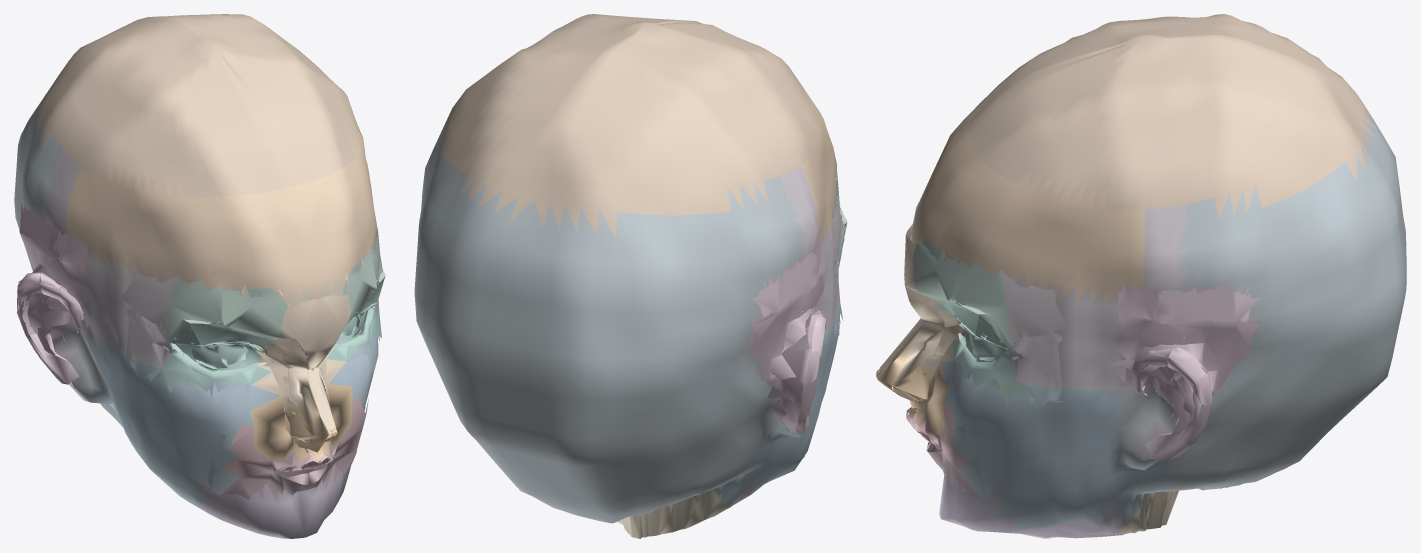
Rendered from grey-head-lod1-10000.parts.glb.
3 renders of one model, left to right at view 1: azimuth 30°, elevation 25°; view 2: azimuth 150°, elevation 25°; view 3: azimuth 270°, elevation 25°, orthographic. The views are drawn at different scales.
Visible parts, largest first — view 1: vault, forehead, temple_L, ear_L, cheek_L, nasalBridge, jaw_L, orbit_L, chin, brow_L, nasalTip, occiput (+7 smaller); view 2: occiput, vault, ear_L, temple_L, jaw_L, forehead, midface, cheek_L, lateral_L; view 3: vault, occiput, forehead, ear_R, temple_R, jaw_R, cheek_R, brow_R, chin, orbit_R, nasalBridge, lateral_R (+4 smaller).
Part boxes in pixels (box(x1,y1,x2,y2)): vault: box(36, 14, 362, 198); forehead: box(65, 122, 376, 303); temple_L: box(40, 149, 177, 368); ear_L: box(17, 196, 92, 386); cheek_L: box(95, 337, 280, 446); nasalBridge: box(251, 290, 350, 434); jaw_L: box(70, 385, 238, 507); orbit_L: box(135, 320, 286, 393); chin: box(197, 452, 356, 538); brow_L: box(168, 276, 289, 340); nasalTip: box(250, 384, 352, 461); occiput: box(14, 86, 100, 403); occiput: box(414, 115, 807, 523); vault: box(440, 14, 820, 236); ear_L: box(746, 232, 827, 434); temple_L: box(780, 165, 840, 334); jaw_L: box(712, 391, 825, 507); forehead: box(801, 92, 836, 246); midface: box(617, 489, 729, 538); cheek_L: box(811, 312, 839, 406); lateral_L: box(728, 417, 808, 482); vault: box(966, 14, 1374, 219); occiput: box(1174, 111, 1406, 490); forehead: box(911, 103, 1144, 305); ear_R: box(1108, 280, 1260, 459); temple_R: box(1001, 204, 1191, 392); jaw_R: box(953, 426, 1177, 529); cheek_R: box(940, 361, 1120, 465); brow_R: box(909, 239, 1011, 347); chin: box(937, 462, 1124, 538); orbit_R: box(916, 290, 1053, 405); nasalBridge: box(877, 224, 963, 384); lateral_R: box(1118, 389, 1188, 490).
Bounding box in the file's own units: 1.87 × 2.32 × 2.21.
